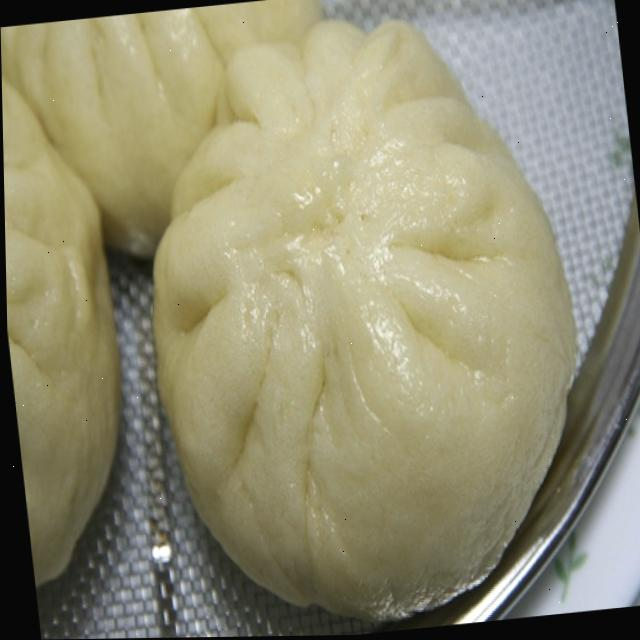带馅早点: (79, 17, 616, 633)
